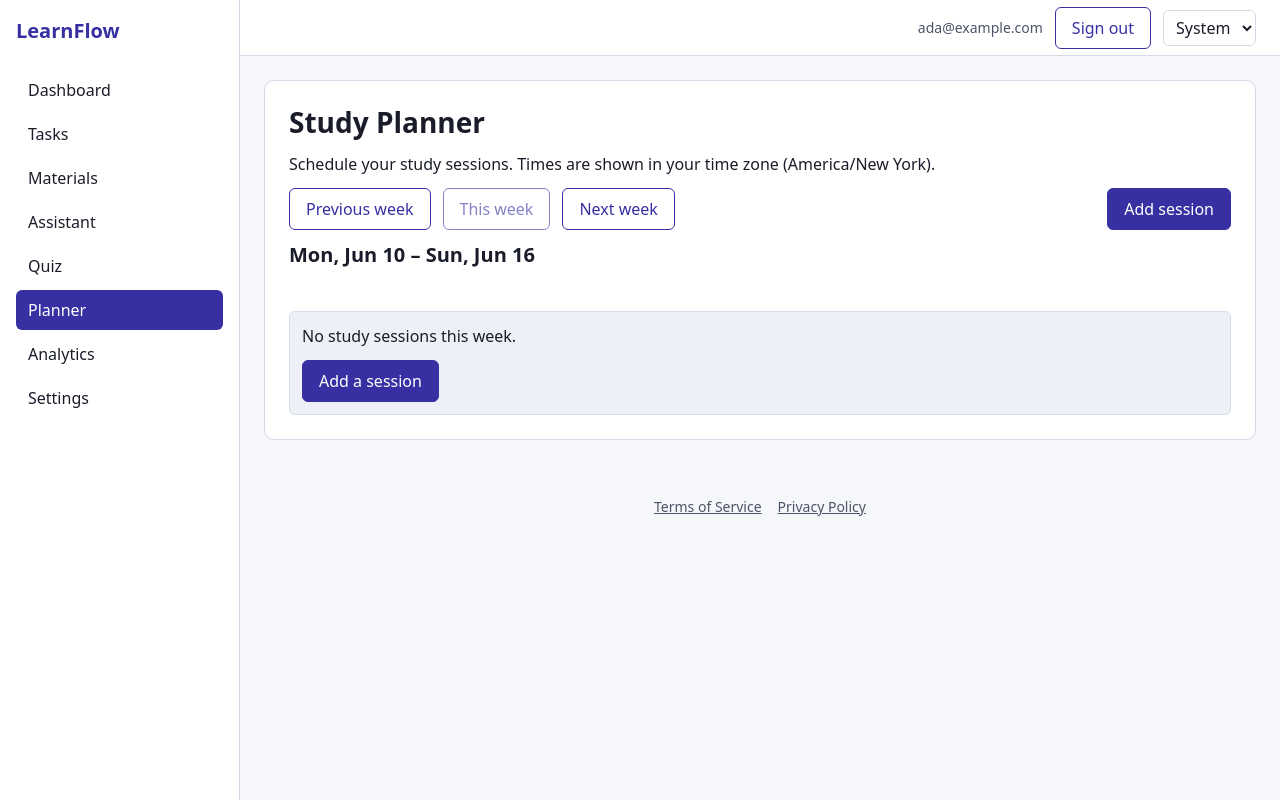
Test: planner: adding a session › starts on today with a sensible hour and says which zone the times are in
Expected: the element that starts with "Study Planner" is shown, x1=240 y1=56 x2=1279 y2=480
Expected: the heading "Study Planner" is shown, x1=289 y1=103 x2=485 y2=141
Click the button "Add session". click: (1169, 209)
box: x1=1107 y1=188 x2=1231 y2=230
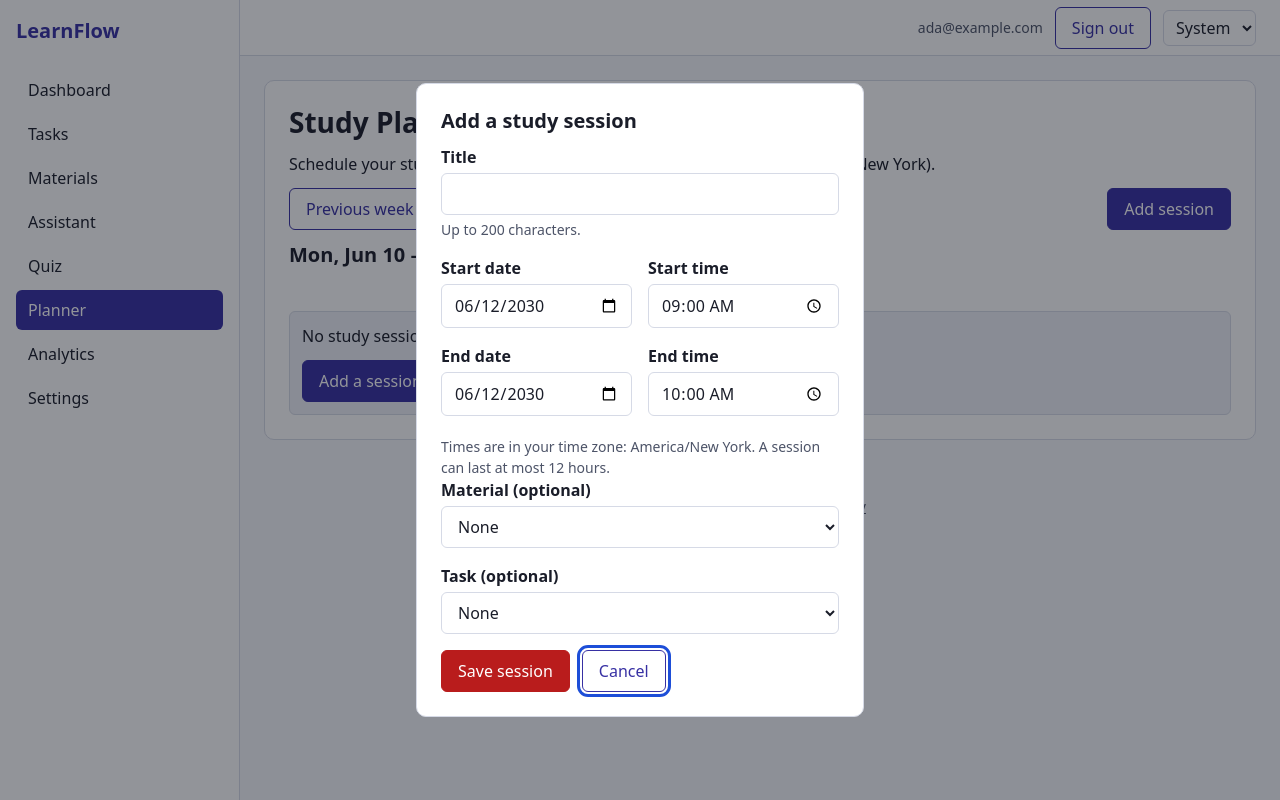
Now the dialog is shown, box x1=416 y1=83 x2=864 y2=717
Now the date field labelled "Start date" holds "2030-06-12", box x1=441 y1=284 x2=632 y2=328
Now the time field labelled "Start time" holds "09:00", box x1=648 y1=284 x2=839 y2=328
